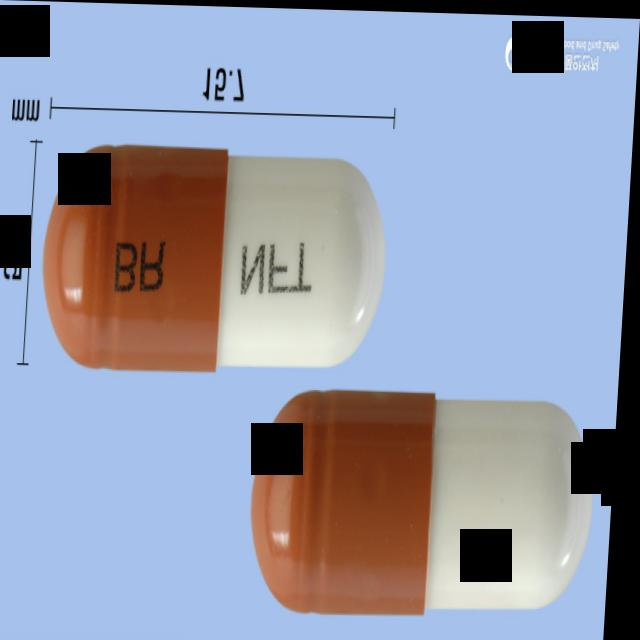Boryung Nitrofurantoin: (247, 378, 609, 624), (40, 137, 397, 380)
